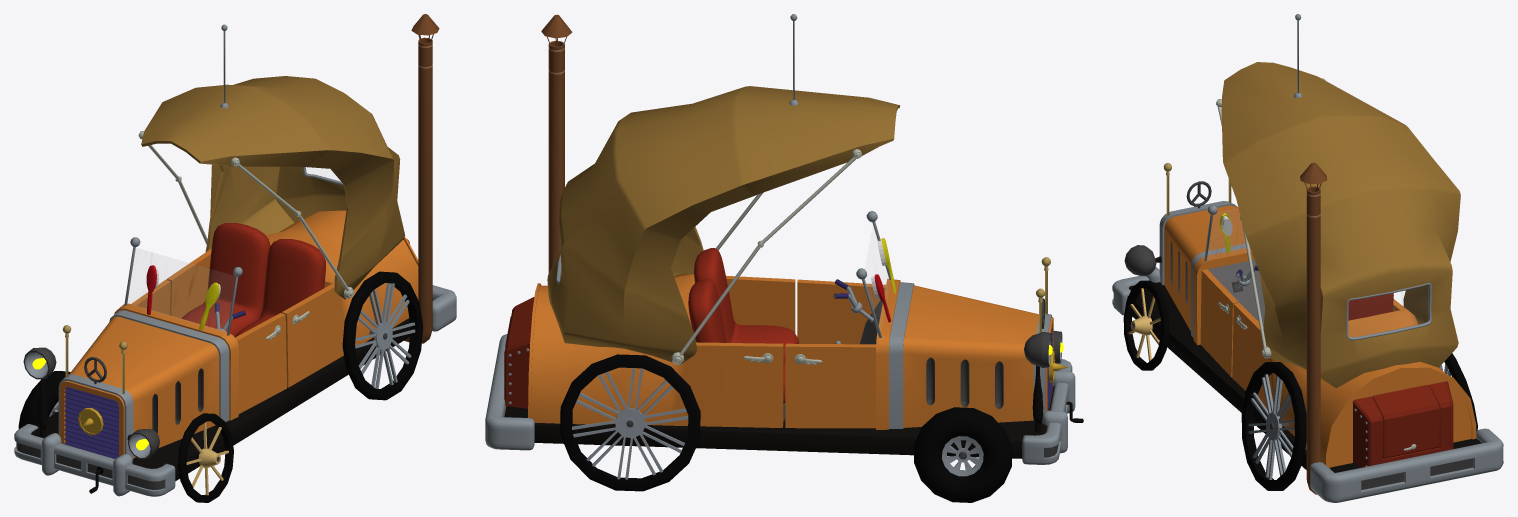
The picture shows the model from 3 angles, left to right: view 1: azimuth 30°, elevation 25°; view 2: azimuth 150°, elevation 25°; view 3: azimuth 270°, elevation 25°; orthographic projection. The views are drawn at different scales.
Visible parts, largest first — view 1: Awning, Hood, Body, Seats, Back_wheels.001, Bottom, Glass_2, Front_bumper, Exhaust_pipe, Front_wheel_1, Radiator_grille, Headlight (+5 smaller); view 2: Awning, Body, Hood, Back_wheels, Bottom, Front_wheel_2, Seats, Exhaust_pipe, Front_bumper, Back_bumper, Trunk, Awning_support (+2 smaller); view 3: Awning, Body, Trunk, Hood, Back_bumper, Back_wheels.001, Exhaust_pipe, Bottom, Front_wheel_1, Panel, Glass_2, Seats (+5 smaller).
Part boxes in pixels (<box>): Awning: <box>141,76,405,299</box>; Hood: <box>58,303,238,459</box>; Body: <box>131,210,418,413</box>; Seats: <box>181,223,325,337</box>; Back_wheels.001: <box>342,271,423,400</box>; Bottom: <box>31,299,433,481</box>; Glass_2: <box>128,178,340,332</box>; Front_bumper: <box>14,424,175,496</box>; Exhaust_pipe: <box>404,14,439,343</box>; Front_wheel_1: <box>178,413,233,502</box>; Radiator_grille: <box>64,387,118,458</box>; Headlight: <box>23,347,159,459</box>; Awning: <box>547,86,900,364</box>; Body: <box>528,273,885,428</box>; Hood: <box>876,279,1053,429</box>; Back_wheels: <box>560,354,700,491</box>; Bottom: <box>504,370,1056,458</box>; Front_wheel_2: <box>914,407,1012,502</box>; Seats: <box>688,248,798,421</box>; Exhaust_pipe: <box>541,14,572,273</box>; Front_bumper: <box>1022,359,1075,464</box>; Back_bumper: <box>485,334,534,450</box>; Trunk: <box>504,297,534,408</box>; Awning_support: <box>671,149,861,364</box>; Awning: <box>1221,62,1460,388</box>; Body: <box>1200,269,1476,468</box>; Trunk: <box>1352,381,1453,467</box>; Hood: <box>1159,201,1254,345</box>; Back_bumper: <box>1310,428,1503,502</box>; Back_wheels.001: <box>1241,362,1306,490</box>; Exhaust_pipe: <box>1300,162,1327,494</box>; Bottom: <box>1127,282,1481,472</box>; Front_wheel_1: <box>1123,280,1169,370</box>; Panel: <box>1208,259,1265,325</box>; Glass_2: <box>1207,209,1246,258</box>; Seats: <box>1348,293,1393,320</box>.
Bounding box in the file's own units: 9.55 × 7.63 × 6.8.
Materials: 20 (1 with a texture image).
